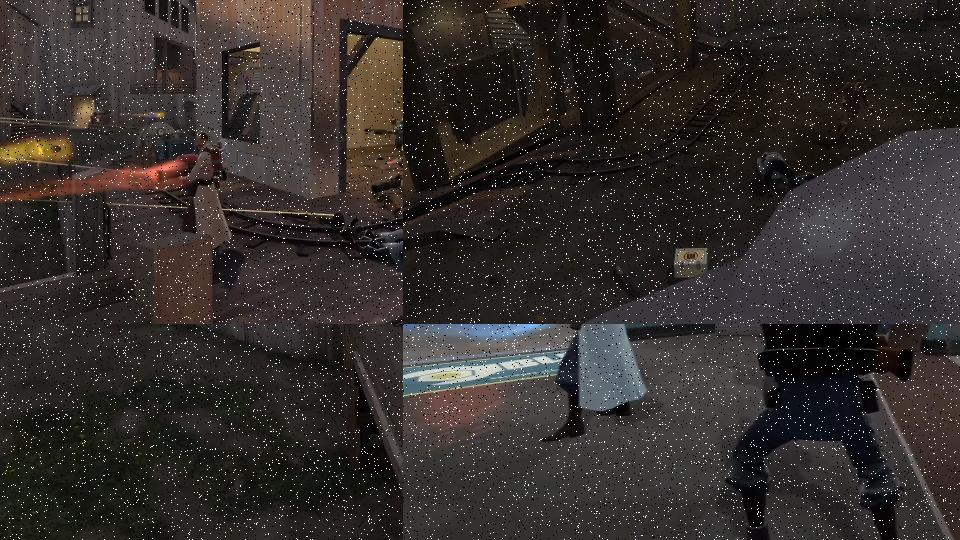Enemy: (717, 324, 944, 540), (506, 324, 670, 451), (149, 132, 232, 252), (340, 215, 403, 293), (756, 151, 817, 200), (837, 78, 877, 142), (363, 117, 403, 155)
